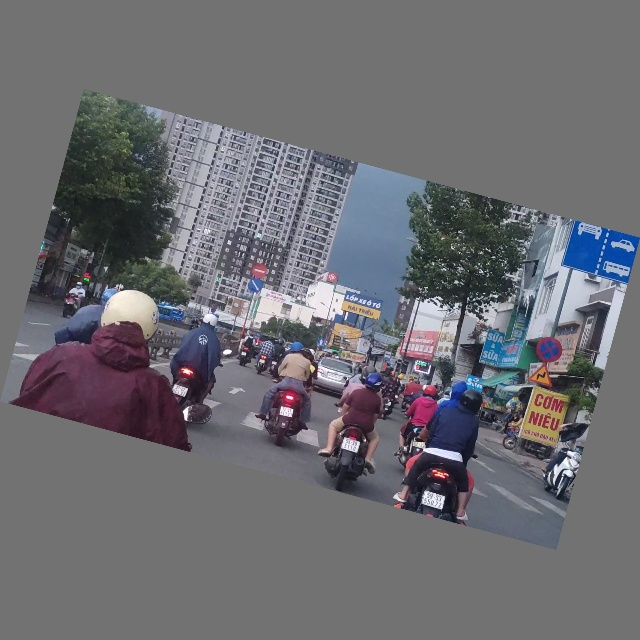I.407a: (316, 338, 326, 348)
I.434a: (383, 351, 392, 362)
P.102: (251, 263, 268, 280)
P.130: (534, 334, 566, 367)
R.302a: (247, 278, 264, 295)
R.415a: (560, 221, 640, 285)
W.202b: (527, 361, 558, 390)
